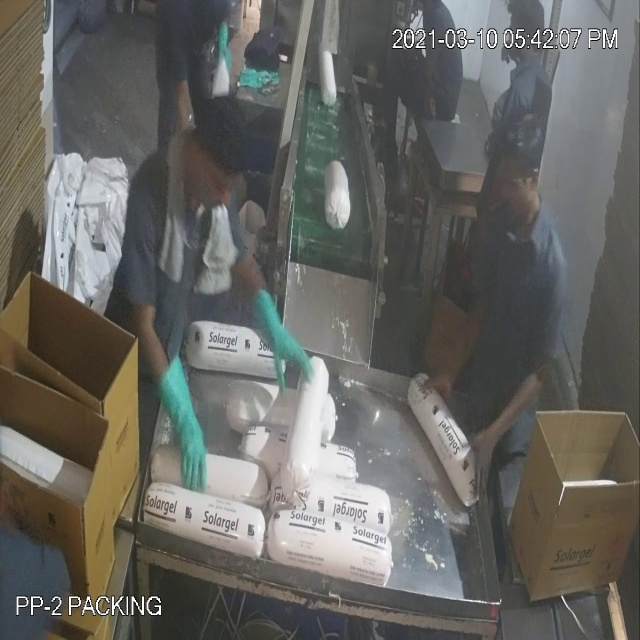Guantes: (243, 275, 332, 411), (139, 351, 222, 482)
Sin_guantes: (457, 359, 562, 509)
